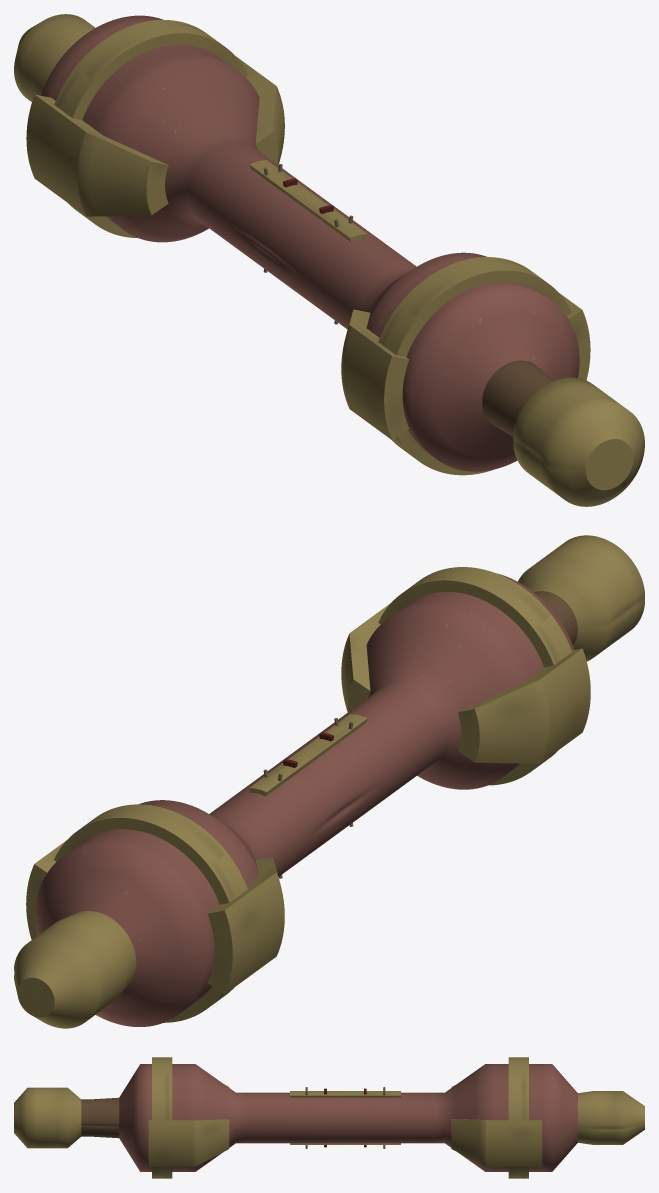
3 renders of one model, top to bottom at view 1: azimuth 30°, elevation 25°; view 2: azimuth 150°, elevation 25°; view 3: azimuth 270°, elevation 25°, orthographic. The views are drawn at different scales.
Visible parts, largest first — view 1: Braccatian HotBomb copper axial body, Braccatian HotBomb gold forward terminal, Braccatian HotBomb gold end casting 1 1, Braccatian HotBomb body band 0, Braccatian HotBomb body band 1, Braccatian HotBomb gold end casting 0 1, Braccatian HotBomb gold rear terminal, Braccatian HotBomb brown forward connector, Braccatian HotBomb gold end casting 1 0, Braccatian HotBomb service cover 1, Braccatian HotBomb gold end casting 0 0; view 2: Braccatian HotBomb copper axial body, Braccatian HotBomb gold rear terminal, Braccatian HotBomb gold end casting 0 1, Braccatian HotBomb gold forward terminal, Braccatian HotBomb gold end casting 1 1, Braccatian HotBomb body band 1, Braccatian HotBomb body band 0, Braccatian HotBomb gold end casting 0 0, Braccatian HotBomb service cover 1, Braccatian HotBomb gold end casting 1 0, Braccatian HotBomb brown forward connector; view 3: Braccatian HotBomb copper axial body, Braccatian HotBomb gold end casting 1 0, Braccatian HotBomb gold forward terminal, Braccatian HotBomb gold end casting 0 0, Braccatian HotBomb gold rear terminal, Braccatian HotBomb body band 0, Braccatian HotBomb body band 1, Braccatian HotBomb brown forward connector, Braccatian HotBomb service cover 1, Braccatian HotBomb service cover 0.
Boxes of the visible parts, box(x1,y1,x2,y2) form: Braccatian HotBomb copper axial body: box(41, 15, 579, 471); Braccatian HotBomb gold forward terminal: box(513, 377, 644, 506); Braccatian HotBomb gold end casting 1 1: box(26, 94, 168, 216); Braccatian HotBomb body band 0: box(378, 257, 571, 475); Braccatian HotBomb body band 1: box(54, 20, 247, 237); Braccatian HotBomb gold end casting 0 1: box(341, 309, 408, 440); Braccatian HotBomb gold rear terminal: box(14, 14, 95, 101); Braccatian HotBomb brown forward connector: box(482, 360, 553, 436); Braccatian HotBomb gold end casting 1 0: box(235, 56, 284, 165); Braccatian HotBomb service cover 1: box(249, 160, 367, 241); Braccatian HotBomb gold end casting 0 0: box(559, 293, 590, 380); Braccatian HotBomb copper axial body: box(35, 573, 574, 1026); Braccatian HotBomb gold rear terminal: box(14, 911, 136, 1028); Braccatian HotBomb gold end casting 0 1: box(457, 648, 590, 763); Braccatian HotBomb gold forward terminal: box(518, 535, 644, 661); Braccatian HotBomb gold end casting 1 1: box(207, 857, 284, 994); Braccatian HotBomb body band 1: box(54, 804, 247, 1022); Braccatian HotBomb body band 0: box(378, 567, 571, 785); Braccatian HotBomb gold end casting 0 0: box(341, 602, 391, 712); Braccatian HotBomb service cover 1: box(249, 714, 367, 796); Braccatian HotBomb gold end casting 1 0: box(26, 840, 66, 939); Braccatian HotBomb brown forward connector: box(534, 591, 577, 644); Braccatian HotBomb copper axial body: box(119, 1064, 577, 1171); Braccatian HotBomb gold end casting 1 0: box(451, 1119, 542, 1166); Braccatian HotBomb gold forward terminal: box(14, 1087, 81, 1148); Braccatian HotBomb gold end casting 0 0: box(148, 1119, 229, 1166); Braccatian HotBomb gold rear terminal: box(578, 1091, 644, 1144); Braccatian HotBomb body band 0: box(152, 1057, 172, 1178); Braccatian HotBomb body band 1: box(508, 1057, 528, 1178); Braccatian HotBomb brown forward connector: box(81, 1097, 119, 1138); Braccatian HotBomb service cover 1: box(290, 1091, 400, 1097); Braccatian HotBomb service cover 0: box(290, 1143, 400, 1144).
Size of the model in its own units: 0.39 by 0.36 by 1.88.
5 materials, 3 textured.
